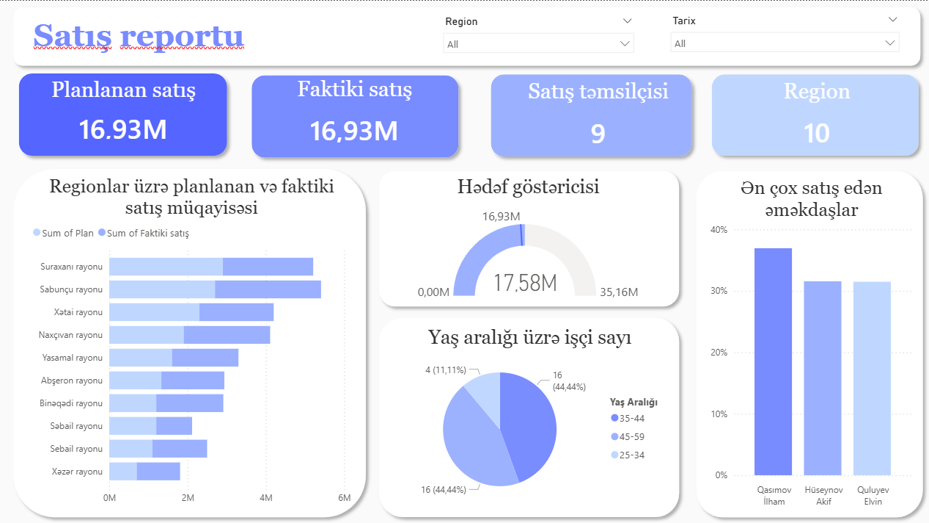

What the dashboard file says about the page in this screenshot:
{"tool":"powerbi","page":{"name":"Report","canvas":[1280,720],"ordinal":0},"visuals":[{"type":"shape","box":[11.2,0,1255,97.5],"z":0},{"type":"textbox","box":[42,18,307,80],"z":1000},{"type":"shape","box":[335.7,92.9,300,130],"z":2000},{"type":"shape","box":[662.3,90.9,292.2,129.9],"z":3000},{"type":"shape","box":[964.3,91.4,300,128.6],"z":4000},{"type":"shape","box":[18.1,90,301.9,130],"z":5000},{"type":"shape","box":[11.7,219.5,498.7,492.2],"z":6000},{"type":"cardVisual","title":"Planlanan satış","fields":{"Data":["Sum(2020-ST-PLAN.Plan)"]},"box":[33.3,104.2,273.3,102.5],"z":7000},{"type":"cardVisual","title":"Region ","fields":{"Data":["Count(2020-ST-PLAN.Region)"]},"box":[981.4,105.7,270,107.1],"z":8000},{"type":"cardVisual","title":"Satış təmsilçisi","fields":{"Data":["Count(2020-ST-PLAN.Fin Kod)"]},"box":[682.9,105.7,271.4,110],"z":9000},{"type":"barChart","title":"Regionlar üzrə planlanan və faktiki satış müqayisəsi","fields":{"Category":["2020-ST-PLAN.Region"],"Y":["Sum(2020-ST-PLAN.Plan)","Sum(2020-ST-PLAN.Faktiki satış)"]},"box":[41.4,237.1,444.3,457.1],"z":10000},{"type":"cardVisual","title":"Faktiki satış","fields":{"Data":["Sum(2020-ST-PLAN.Plan)"]},"box":[350,102.9,271.4,108.6],"z":11000},{"type":"shape","box":[510.4,422.1,427.3,289.6],"z":12000},{"type":"slicer","fields":{"Values":["DateTable.Tarix"]},"box":[906.5,14.3,332.5,70.1],"z":13000},{"type":"shape","box":[510,222.9,427.1,202.9],"z":14000},{"type":"pieChart","title":"Yaş aralığı üzrə işçi sayı","fields":{"Category":["2020-ST-PLAN.Yaş Aralığı"],"Y":["CountNonNull(2020-ST-PLAN.Fin Kod)"]},"box":[528.6,442.9,392.2,251.9],"z":15000},{"type":"gauge","title":"Hədəf göstəricisi","fields":{"TargetValue":["Sum(2020-ST-PLAN.Plan)"],"Y":["Sum(2020-ST-PLAN.Faktiki satış)"]},"box":[524.3,237.1,397.1,174.3],"z":16000},{"type":"shape","box":[942.9,222.9,327.1,490],"z":17000},{"type":"slicer","fields":{"Values":["2020-ST-PLAN.Region"]},"box":[596.1,15.6,280.5,68.8],"z":18000},{"type":"columnChart","title":"Ən çox satış edən əməkdaşlar","fields":{"Category":["2020-ST-PLAN.Ad Soyad"],"Y":["Divide(Sum(2020-ST-PLAN.Faktiki satış), ScopedEval(Sum(2020-ST-PLAN.Faktiki satış), []))"]},"box":[965.7,240,285.7,457.1],"z":19000}]}

Visuals, with their boxes in screenshot pixels (x1, y1, x2, y2), scaled from the page's 1280x720 canvas onto the 929x523 screenshot:
shape: locate(8, 0, 919, 71)
textbox: locate(30, 13, 253, 71)
shape: locate(244, 67, 461, 162)
shape: locate(481, 66, 693, 160)
shape: locate(700, 66, 918, 160)
shape: locate(13, 65, 232, 160)
shape: locate(8, 159, 370, 517)
"Planlanan satış" cardVisual: locate(24, 76, 223, 150)
"Region " cardVisual: locate(712, 77, 908, 155)
"Satış təmsilçisi" cardVisual: locate(496, 77, 693, 157)
"Regionlar üzrə planlanan və faktiki satış müqayisəsi" barChart: locate(30, 172, 353, 504)
"Faktiki satış" cardVisual: locate(254, 75, 451, 154)
shape: locate(370, 307, 681, 517)
slicer - DateTable.Tarix: locate(658, 10, 899, 61)
shape: locate(370, 162, 680, 309)
"Yaş aralığı üzrə işçi sayı" pieChart: locate(384, 322, 668, 505)
"Hədəf göstəricisi" gauge: locate(381, 172, 669, 299)
shape: locate(684, 162, 922, 518)
slicer - 2020-ST-PLAN.Region: locate(433, 11, 636, 61)
"Ən çox satış edən əməkdaşlar" columnChart: locate(701, 174, 908, 506)
